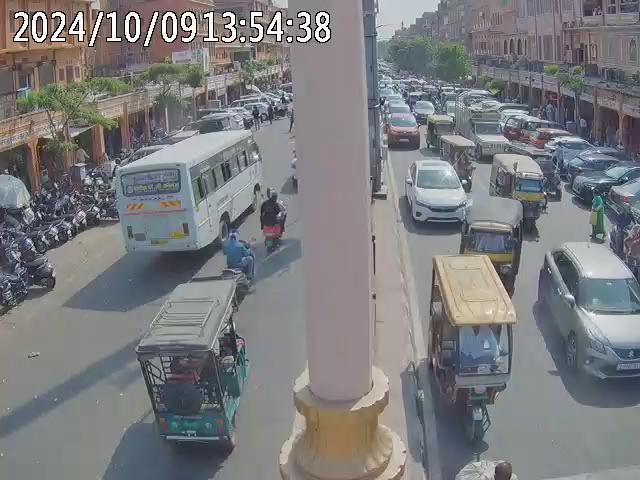auto: (133, 270, 251, 459), (421, 253, 519, 453), (489, 152, 548, 237), (437, 134, 477, 182)
bus: (116, 127, 264, 268)
car: (534, 240, 639, 394), (402, 158, 470, 227), (383, 111, 421, 147)
helmet: (266, 190, 277, 199)
motorbike-rider: (220, 229, 256, 287)
scooty-rider: (258, 189, 287, 254)
